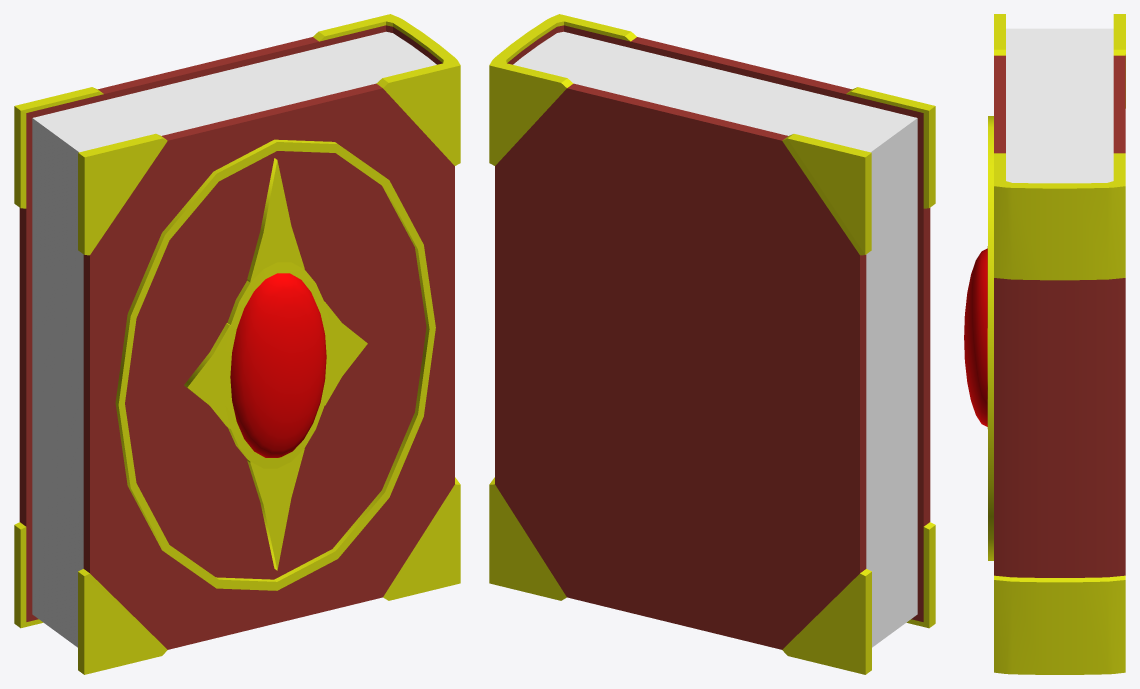
Rendered from LibroMagico.fbx.
The picture shows the model from 3 angles, left to right: view 1: azimuth 30°, elevation 25°; view 2: azimuth 150°, elevation 25°; view 3: azimuth 270°, elevation 25°; orthographic projection. The views are drawn at different scales.
Visible parts, largest first — view 1: Box001; view 2: Box001; view 3: Box001.
Part boxes in pixels (<box>): Box001: <box>14,14,460,674</box>; Box001: <box>489,14,935,674</box>; Box001: <box>964,14,1125,674</box>.
Size of the model in its own units: 31.37 by 40.7 by 12.27.
